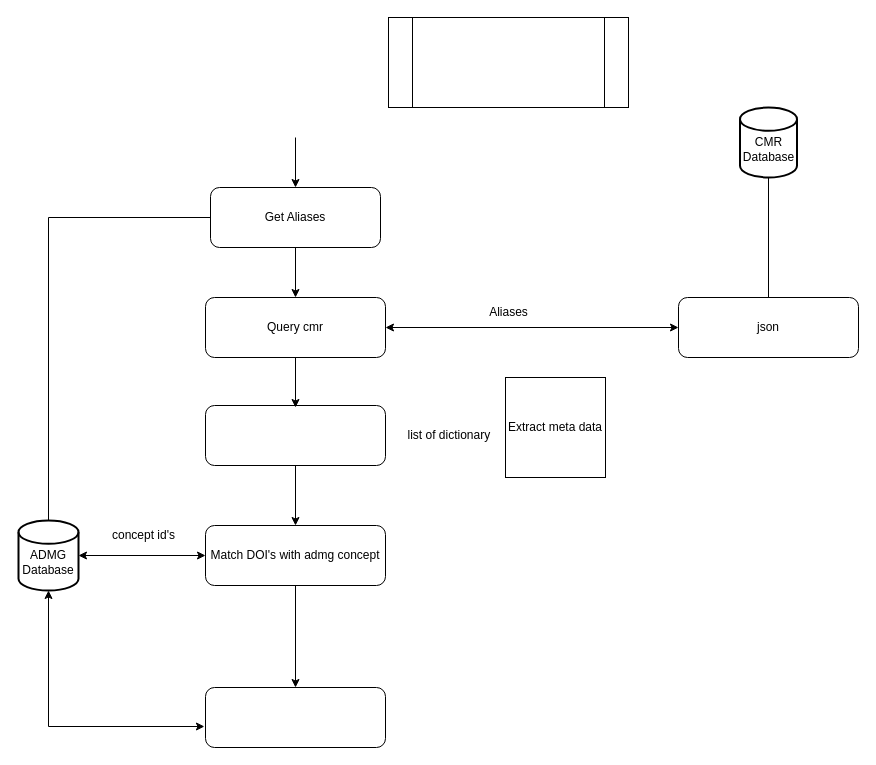
Image size: 876x765. Some labels were removed from this diagram. Here are the shapes that lost their labels. From the top down, the centre of each, then its label:
At point 508,62: "Generate Recommendations".
At point 295,435: "Extract and Process from cmr json".
At point 295,717: "Add to ADMG DB".
